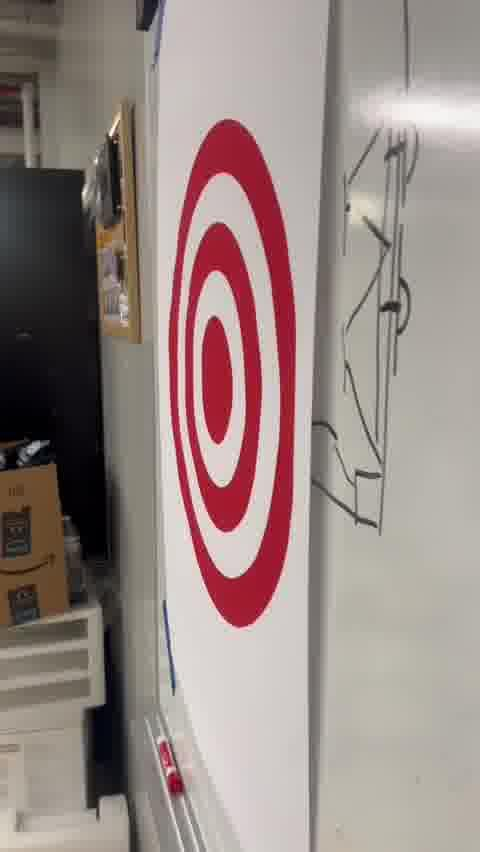target_red: (170, 120, 301, 626)
